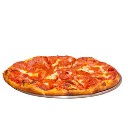pepperonipizza: (3, 54, 125, 95)
